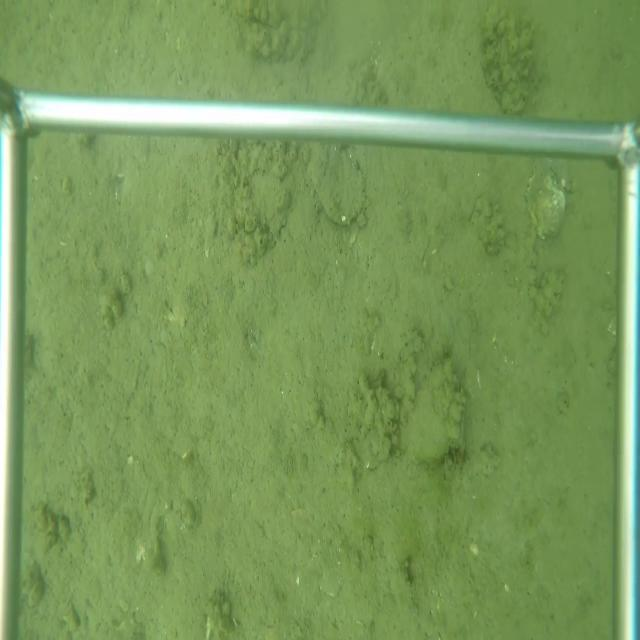Oyster-Closed: (405, 354, 468, 467)
Oyster-Indeterminate: (306, 143, 369, 233), (520, 165, 569, 248)
